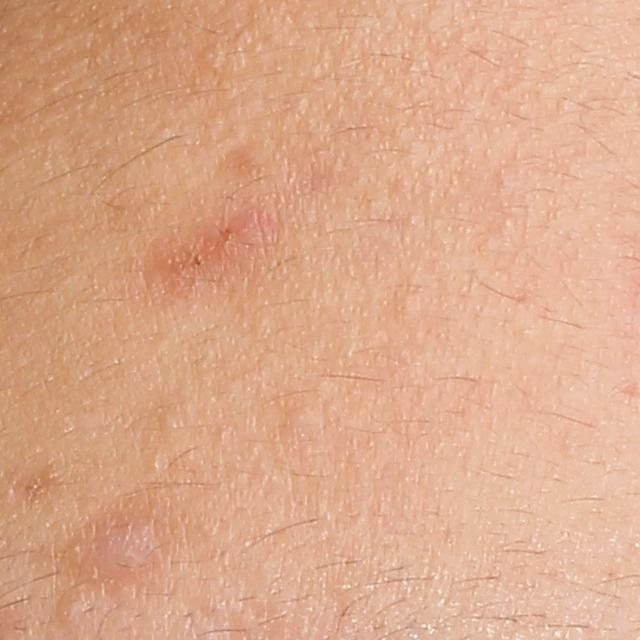comedo: (54, 597, 90, 625), (286, 404, 322, 432), (397, 292, 428, 324)
